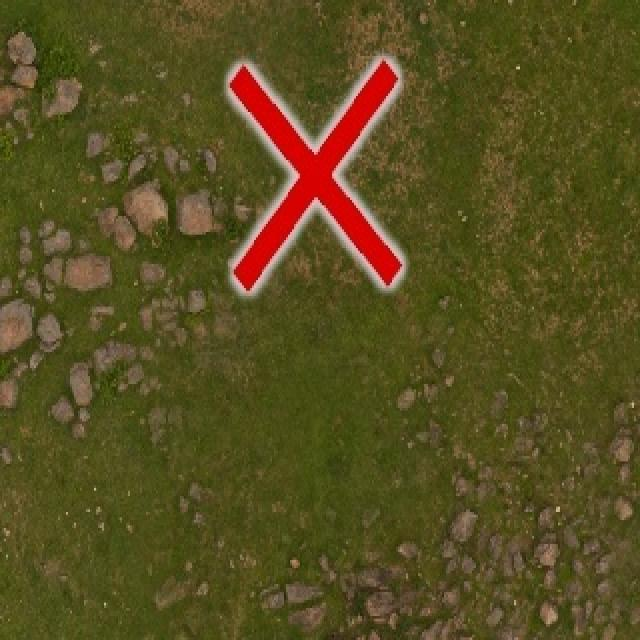x_marker: (229, 60, 401, 289)
